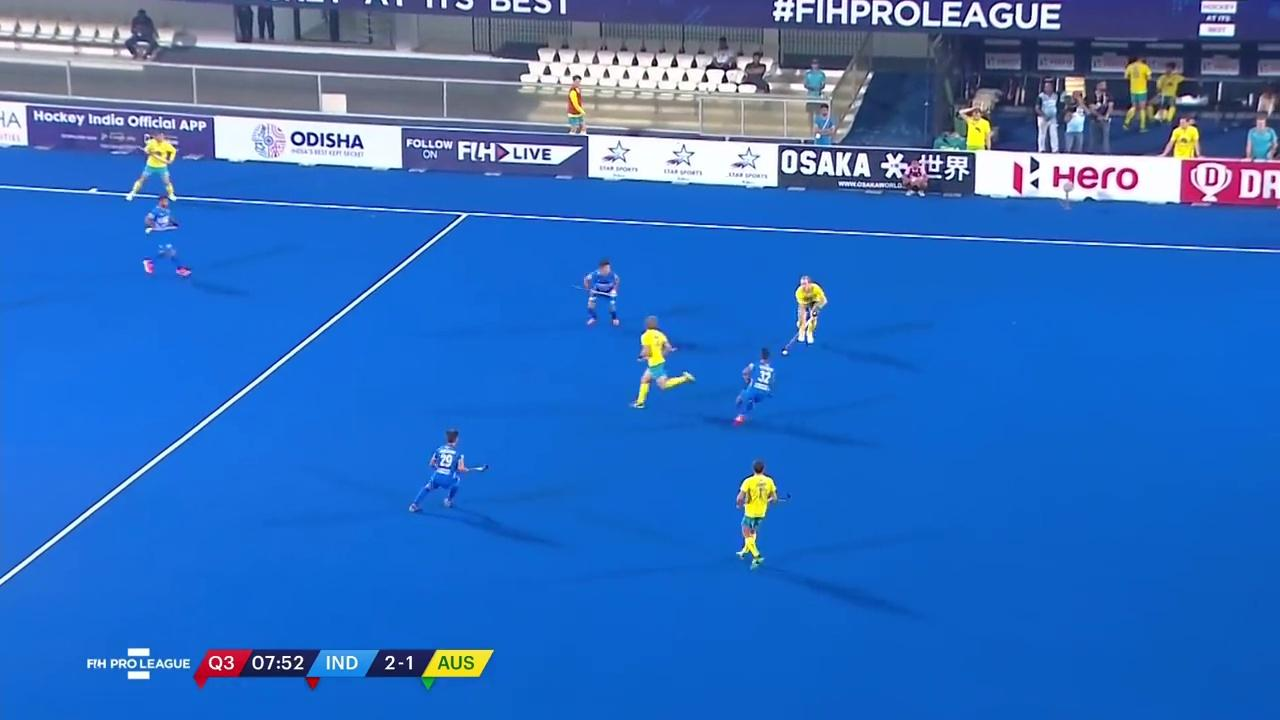ball: (777, 347, 793, 359)
